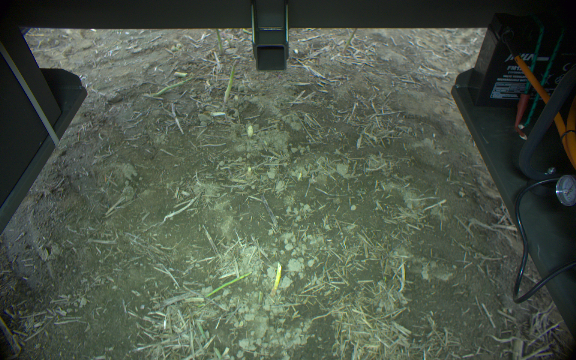aspa: (203, 269, 252, 302), (221, 56, 240, 103), (152, 78, 193, 97), (340, 28, 360, 54), (270, 261, 284, 297), (212, 30, 224, 54)
